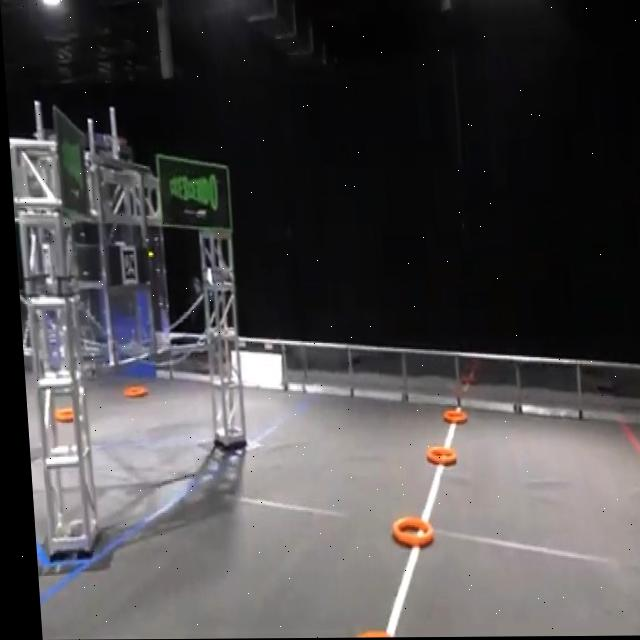note: (383, 517, 427, 549), (420, 446, 451, 467), (437, 410, 462, 426), (117, 386, 144, 399), (50, 407, 68, 422)
